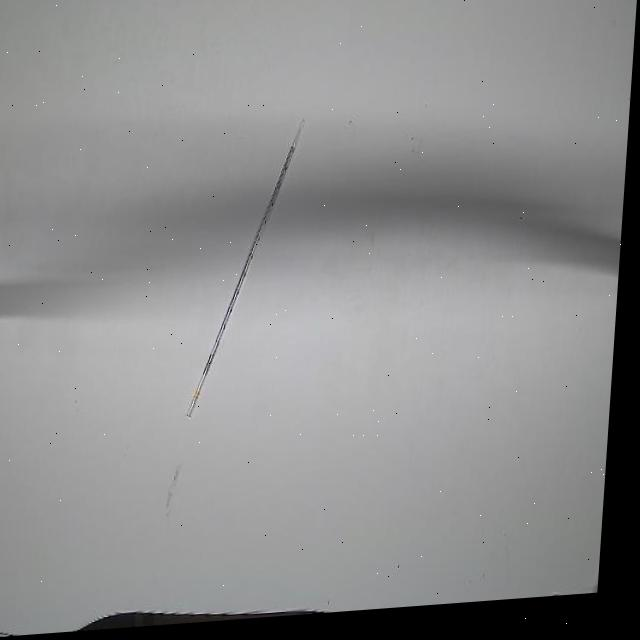Serelogical Pipet 10 mL: (191, 117, 318, 427)
